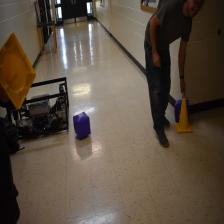cone: (0, 32, 36, 110), (176, 97, 192, 134)
cube: (73, 111, 91, 140), (174, 99, 190, 122)
